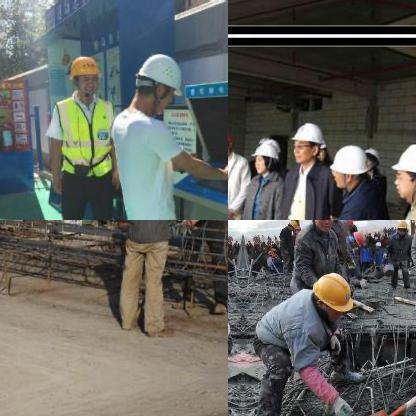Helmet: (128, 46, 182, 116), (306, 266, 354, 320), (387, 136, 415, 202), (66, 51, 102, 99), (286, 119, 324, 164), (330, 141, 366, 188), (249, 138, 278, 174), (361, 143, 379, 171), (347, 228, 367, 249), (393, 220, 409, 236), (309, 220, 339, 228), (281, 220, 296, 232)
